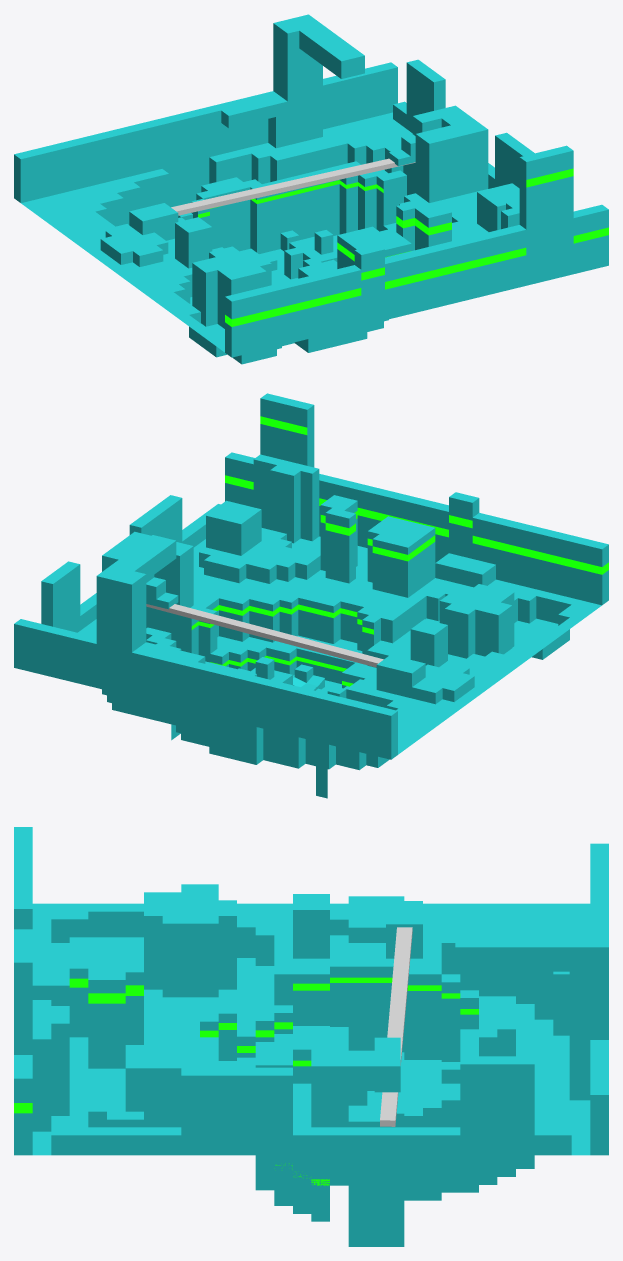
The picture shows the model from 3 angles, top to bottom: view 1: azimuth 30°, elevation 25°; view 2: azimuth 150°, elevation 25°; view 3: azimuth 270°, elevation 25°; orthographic projection. The views are drawn at different scales.
Parts seen in each view (by area): view 1: Plane, Cube; view 2: Plane, Cube; view 3: Plane, Cube.
Boxes of the visible parts, x1,y1,x2,y2 form: Plane: [14, 14, 608, 364]; Cube: [171, 158, 415, 215]; Plane: [14, 393, 608, 798]; Cube: [146, 604, 383, 667]; Plane: [14, 827, 608, 1246]; Cube: [380, 927, 412, 1126].
Bounding box in the file's own units: 400 × 234 × 400.
